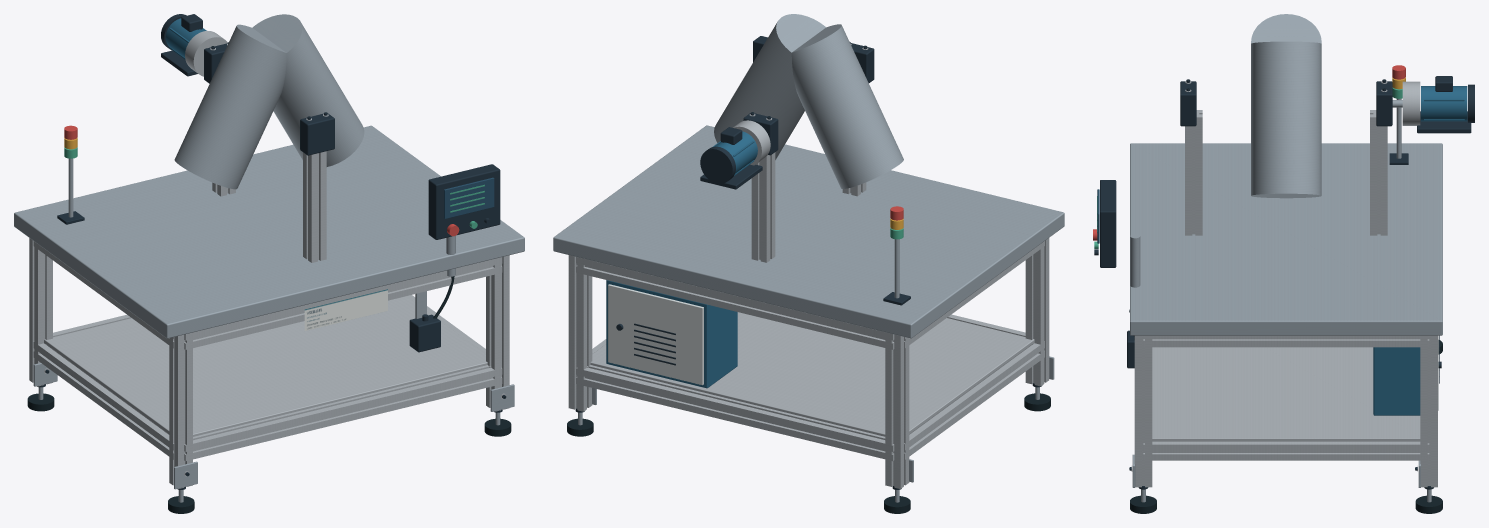
The model's file is v-blender-cell.glb.
3 views of the same model, side by side, from view 1: azimuth 30°, elevation 25°; view 2: azimuth 150°, elevation 25°; view 3: azimuth 270°, elevation 25° (orthographic).
Visible parts, largest first — view 1: ClosedMachineBed_40, LowerShelf_41, VesselLeg_73, SlottedExtrusion_34, VesselLeg_74, SlottedExtrusion_35, SlottedExtrusion_11, SlottedExtrusion_36, ConsoleBack_52, SlottedExtrusion_27, SlottedExtrusion_72, SlottedExtrusion_3 (+7 smaller); view 2: ClosedMachineBed_40, LowerShelf_41, VesselLeg_73, BackDoor_43, SlottedExtrusion_32, VesselLeg_74, SlottedExtrusion_33, SlottedExtrusion_3, SlottedExtrusion_19, Cabinet_42, SlottedExtrusion_36, SlottedExtrusion_11 (+6 smaller); view 3: ClosedMachineBed_40, LowerShelf_41, VesselLeg_74, SlottedExtrusion_38, SlottedExtrusion_39, Cabinet_42, SlottedExtrusion_27, SlottedExtrusion_19, SlottedExtrusion_71, SlottedExtrusion_72, VesselLeg_73, ConsoleBack_52 (+6 smaller).
Boxes of the visible parts, left/top/right/bottom form: ClosedMachineBed_40: left=14, top=125, right=524, bottom=338; LowerShelf_41: left=44, top=296, right=487, bottom=436; VesselLeg_73: left=174, top=24, right=286, bottom=189; SlottedExtrusion_34: left=184, top=365, right=502, bottom=461; VesselLeg_74: left=252, top=14, right=364, bottom=166; SlottedExtrusion_35: left=184, top=257, right=502, bottom=349; SlottedExtrusion_11: left=169, top=333, right=192, bottom=488; SlottedExtrusion_36: left=33, top=342, right=174, bottom=459; ConsoleBack_52: left=428, top=164, right=500, bottom=239; SlottedExtrusion_27: left=486, top=255, right=509, bottom=411; SlottedExtrusion_72: left=303, top=151, right=326, bottom=262; SlottedExtrusion_3: left=29, top=238, right=52, bottom=386; ClosedMachineBed_40: left=553, top=125, right=1064, bottom=338; LowerShelf_41: left=590, top=312, right=1034, bottom=436; VesselLeg_73: left=791, top=24, right=903, bottom=188; BackDoor_43: left=608, top=284, right=703, bottom=385; SlottedExtrusion_32: left=576, top=365, right=894, bottom=461; VesselLeg_74: left=714, top=14, right=825, bottom=159; SlottedExtrusion_33: left=576, top=257, right=894, bottom=349; SlottedExtrusion_3: left=885, top=332, right=909, bottom=488; SlottedExtrusion_19: left=568, top=255, right=592, bottom=411; Cabinet_42: left=606, top=280, right=737, bottom=388; SlottedExtrusion_36: left=904, top=341, right=1044, bottom=459; SlottedExtrusion_11: left=1025, top=238, right=1049, bottom=386; ClosedMachineBed_40: left=1130, top=143, right=1442, bottom=335; LowerShelf_41: left=1152, top=347, right=1420, bottom=441; VesselLeg_74: left=1251, top=41, right=1321, bottom=198; SlottedExtrusion_38: left=1143, top=441, right=1429, bottom=460; SlottedExtrusion_39: left=1143, top=335, right=1429, bottom=347; Cabinet_42: left=1373, top=347, right=1420, bottom=415; SlottedExtrusion_27: left=1134, top=335, right=1152, bottom=487; SlottedExtrusion_19: left=1420, top=335, right=1437, bottom=487; SlottedExtrusion_71: left=1370, top=110, right=1387, bottom=235; SlottedExtrusion_72: left=1185, top=110, right=1202, bottom=235; VesselLeg_73: left=1251, top=14, right=1321, bottom=43; ConsoleBack_52: left=1100, top=180, right=1116, bottom=267.
Bounding box in the file's own units: 1.55 × 1.63 × 1.4.
Materials: 11 (3 with a texture image).
